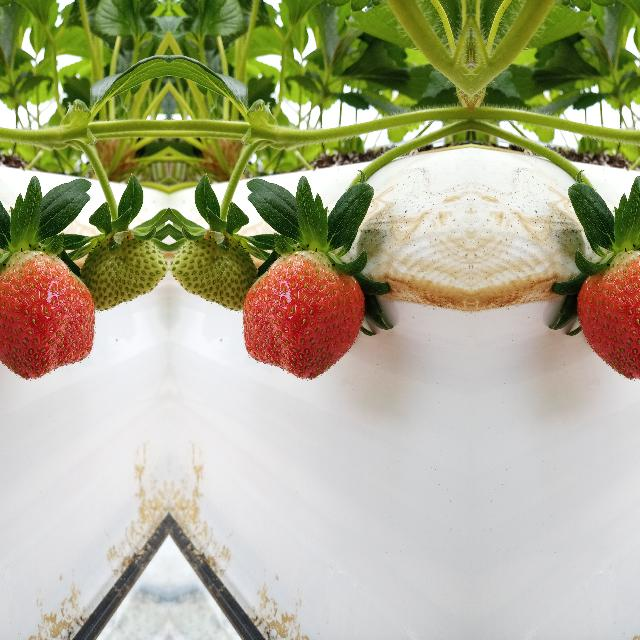Health_100: (241, 250, 365, 380), (0, 249, 95, 380), (576, 249, 640, 380)
Health_25: (171, 225, 257, 321), (79, 225, 165, 321)
